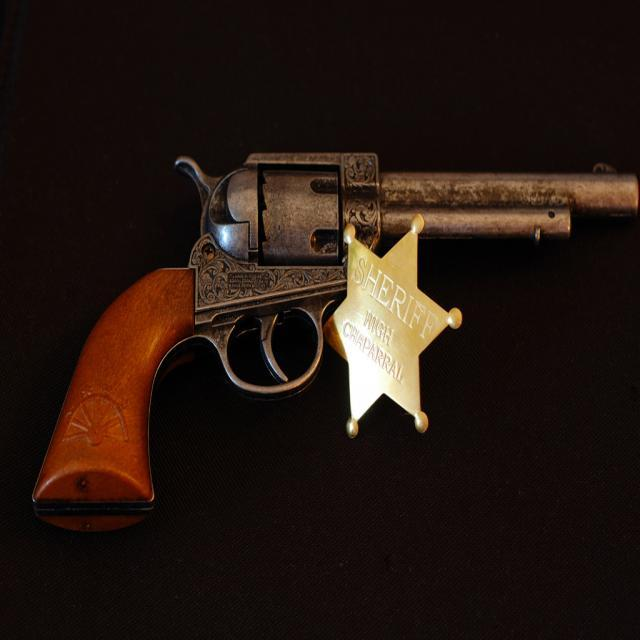weapon: (31, 153, 639, 536)
